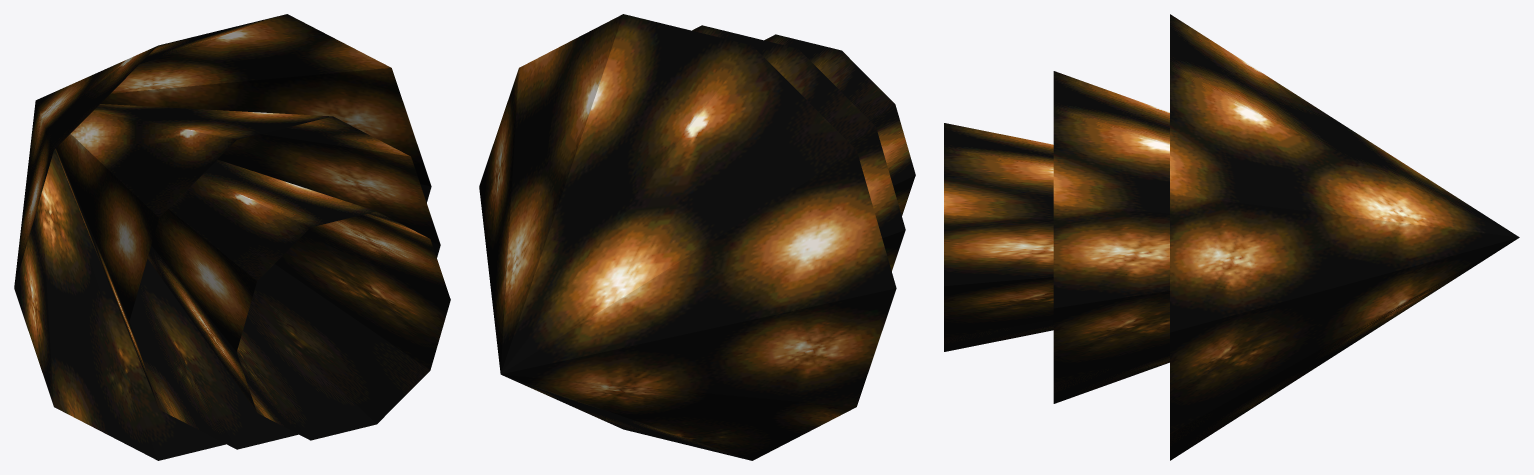
The model's file is tx_knight_shengshizishenpan_fire_b.obj.
The picture shows the model from 3 angles, left to right: view 1: azimuth 30°, elevation 25°; view 2: azimuth 150°, elevation 25°; view 3: azimuth 270°, elevation 25°; orthographic projection. The views are drawn at different scales.
Parts seen in each view (by area): view 1: Cylinder01, Cylinder03, Cylinder02; view 2: Cylinder03, Cylinder02, Cylinder01; view 3: Cylinder03, Cylinder02, Cylinder01.
Boxes of the visible parts, x1,y1,x2,y2 form: Cylinder01: (147,159,450,440); Cylinder03: (14,14,431,460); Cylinder02: (55,104,440,449); Cylinder03: (479,14,896,460); Cylinder02: (692,25,905,271); Cylinder01: (764,34,915,215); Cylinder03: (1170,14,1519,460); Cylinder02: (1053,71,1169,403); Cylinder01: (944,123,1053,351).
Size of the model in its own units: 315 by 300 by 403.
